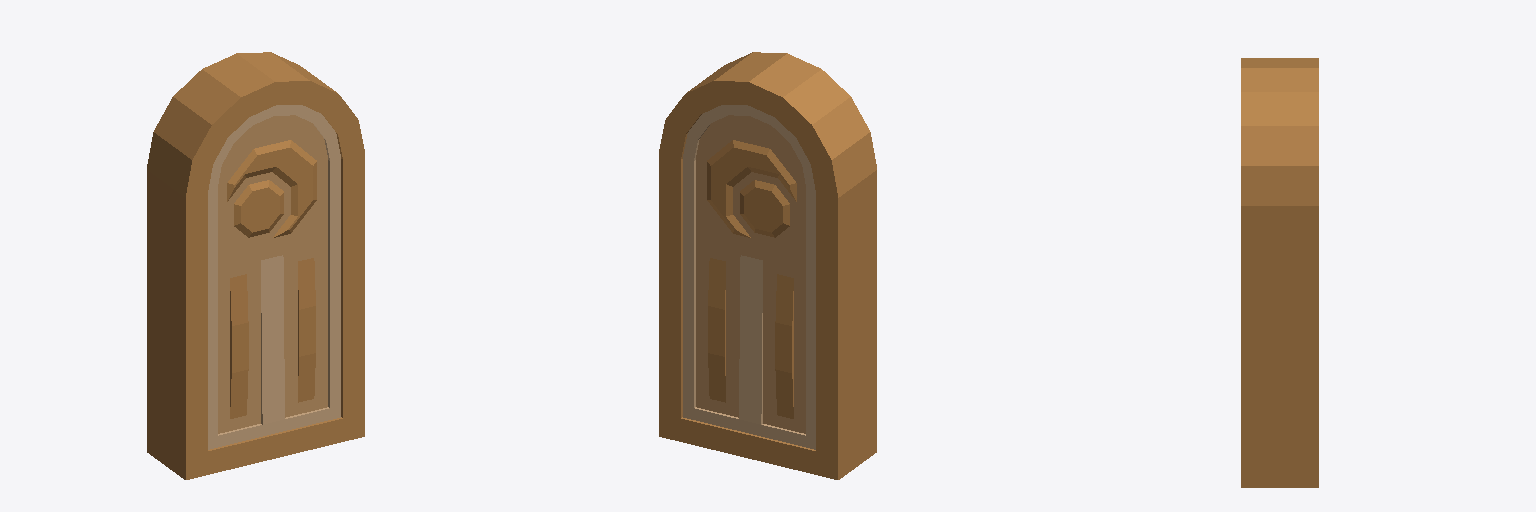
Rendered from Wall_Straight_Door_Eclipse.obj.
3 views of the same model, side by side, from view 1: azimuth 30°, elevation 25°; view 2: azimuth 150°, elevation 25°; view 3: azimuth 270°, elevation 25° (orthographic).
Visible parts, largest first — view 1: object1; view 2: object1; view 3: object1.
Part boxes in pixels (x1,y1,x2,y2): object1: (147,52,364,479); object1: (659,52,876,479); object1: (1241,58,1318,487).
Bounding box in the file's own units: 0.8 × 1.6 × 0.3.